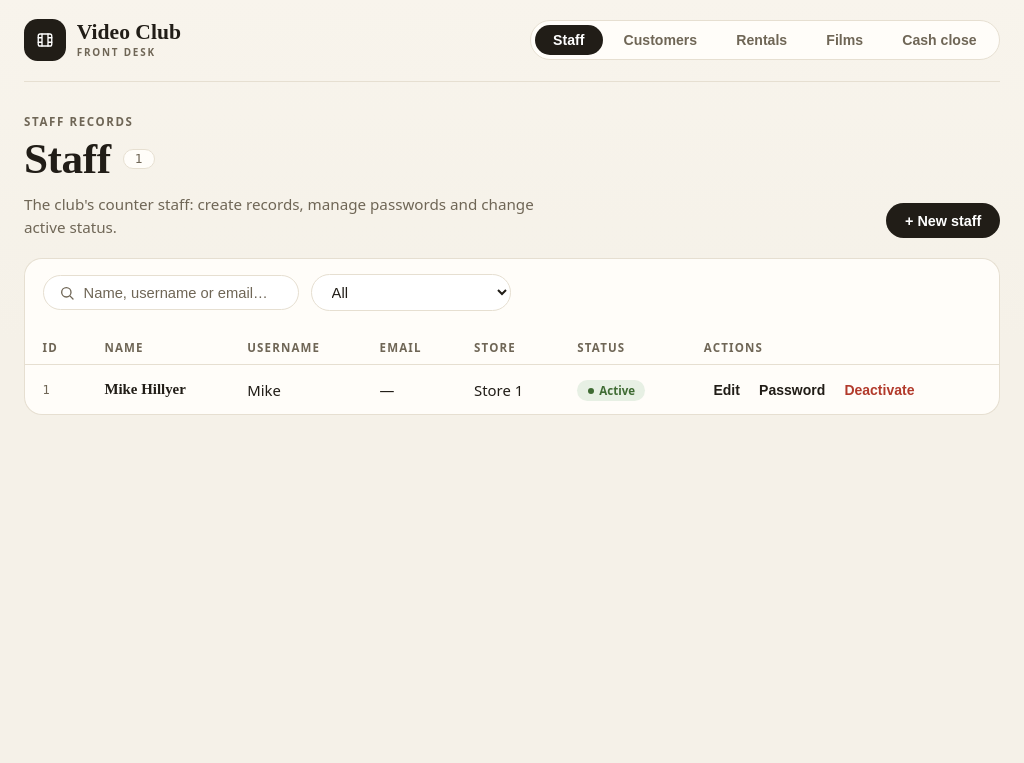
Test case: Rentals view pagination › applies a page size and requests the second slice
Click the tab "Rentals". click: (762, 40)
box: [718,25,806,55]
(page scrolled)
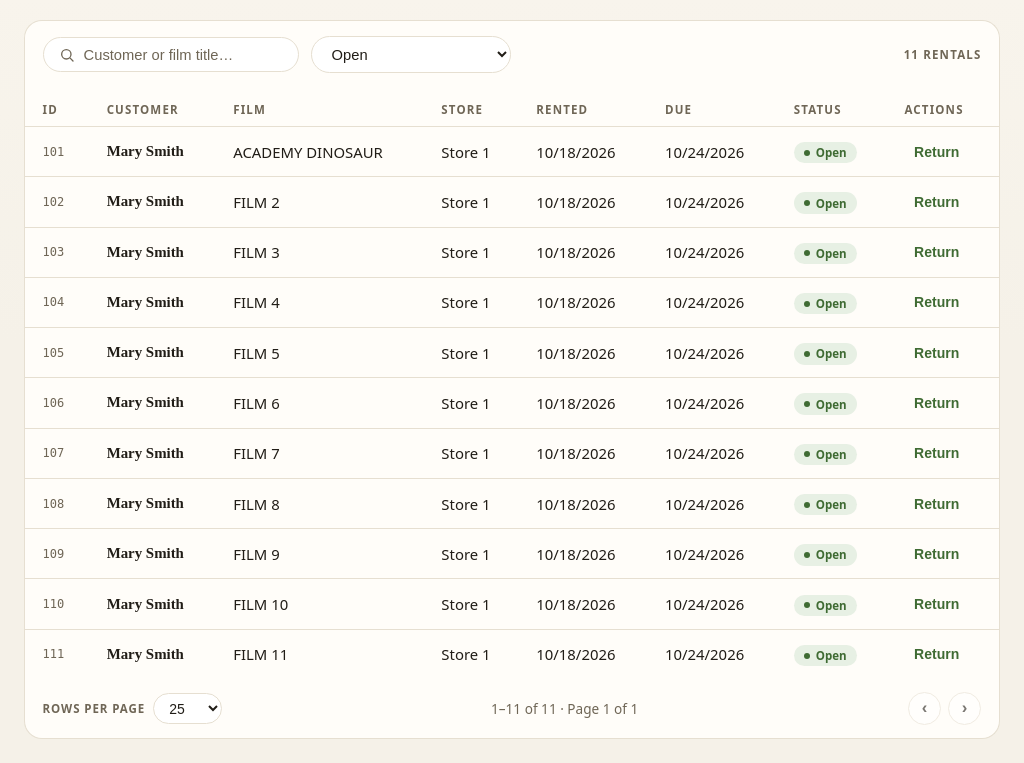
expect the text "ACADEMY DINOSAUR" is shown: met, box [216,126,424,177]
Select "10" in the dropdown labelled "Rows per page". click: (187, 709)
box: [153,693,222,724]
(page scrolled)
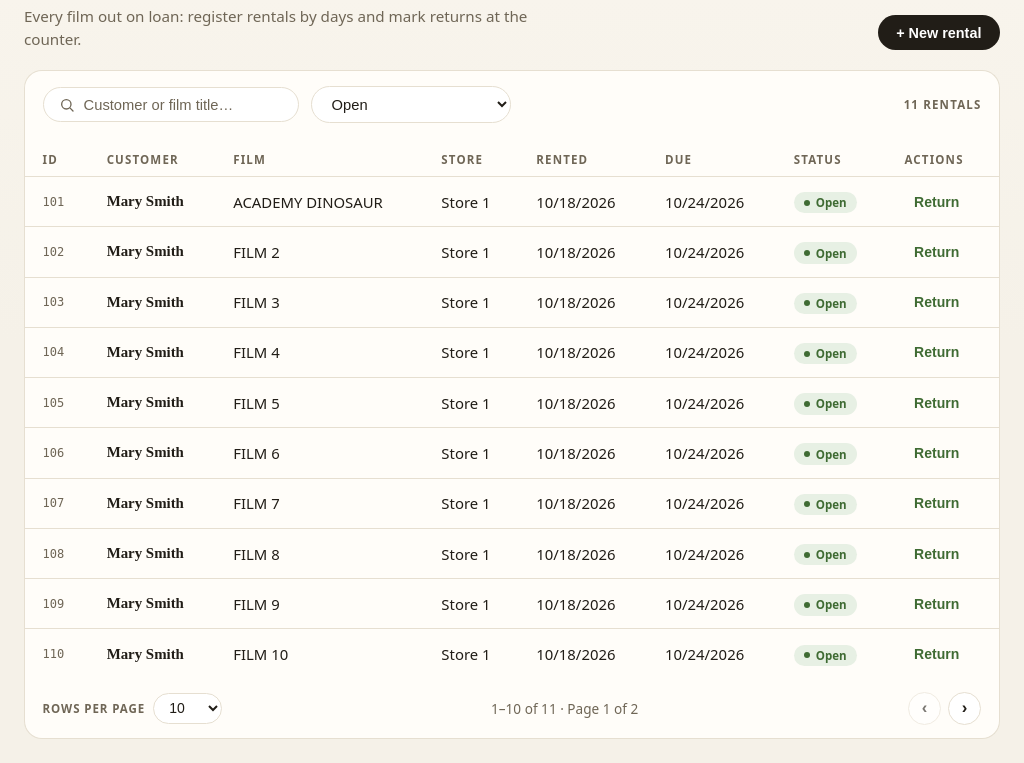
expect the text "1–10 of 11 · Page 1 of 2" is shown: met, box [491,699,638,718]
Click the button named "Next page". click: (965, 708)
box: [948,692,981,725]
(page scrolled)
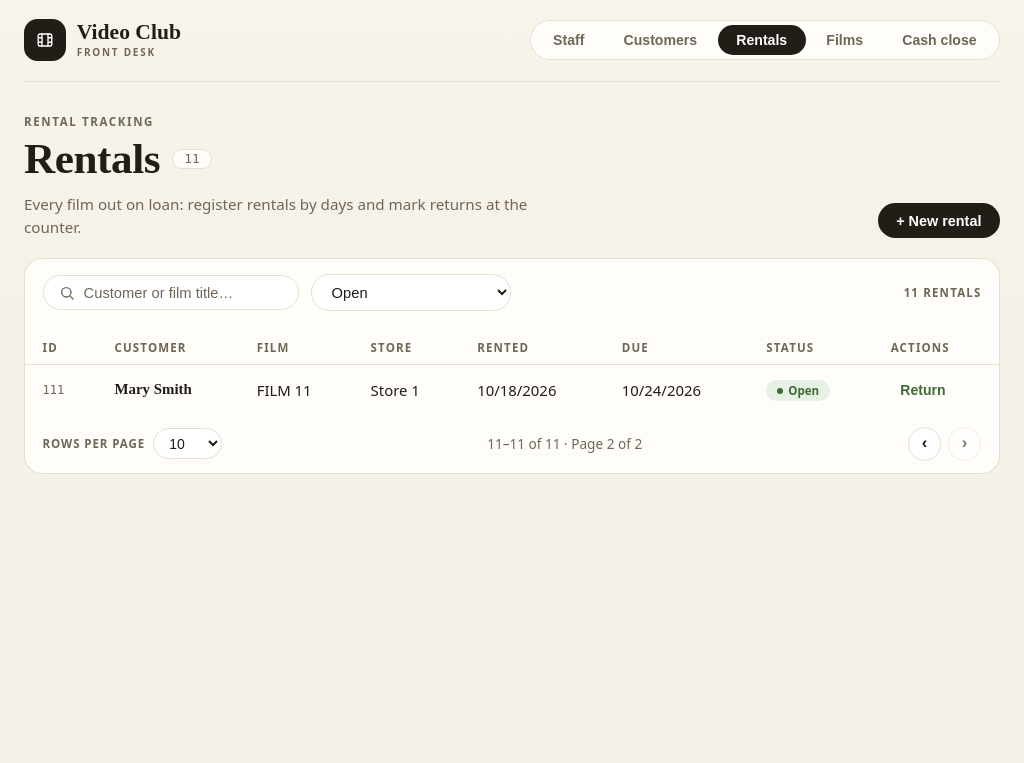
expect the text "11–11 of 11 · Page 2 of 2" is shown: met, box [487,434,642,453]
expect the text "FILM 11" is shown: met, box [239,364,353,414]
expect the text "ACADEMY DINOSAUR" is gone: met
